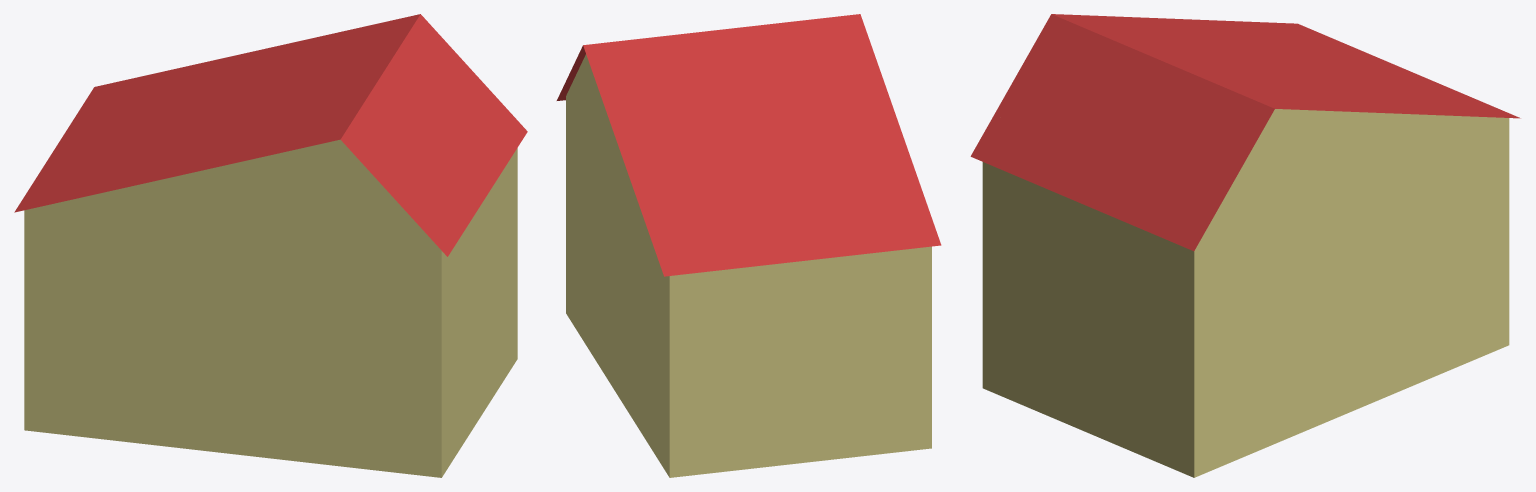
3 views of the same model, side by side, from view 1: azimuth 30°, elevation 25°; view 2: azimuth 150°, elevation 25°; view 3: azimuth 270°, elevation 25° (orthographic). The views are drawn at different scales.
Size of the model in its own units: 15.99 by 16 by 10.9.
